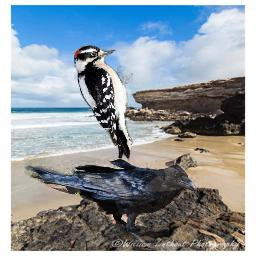Crow: (24, 158, 197, 250)
Woodpecker: (74, 45, 133, 161)
